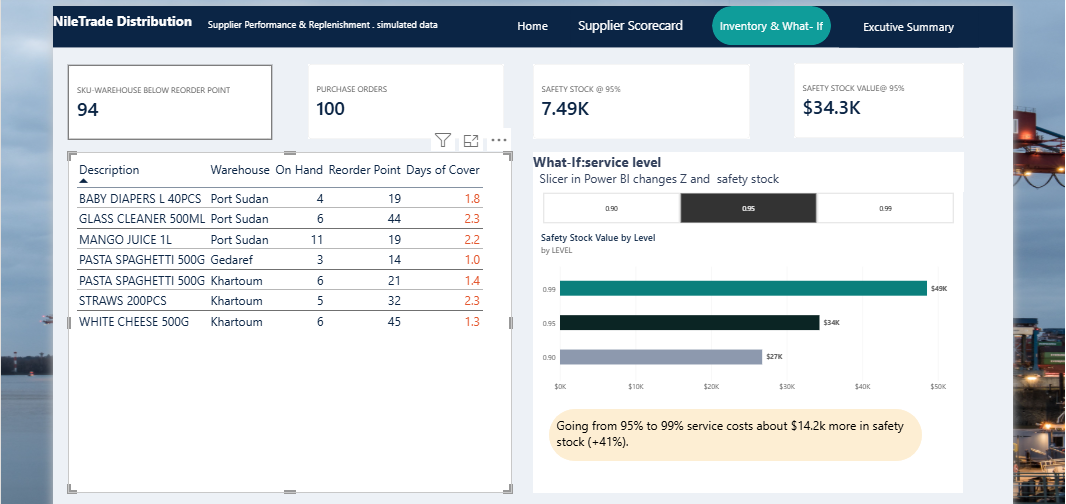

Layout of this report page (visuals, bound fields, positions):
{"tool":"powerbi","page":{"name":"Inventory & What-If","canvas":[1920,1080],"ordinal":2},"visuals":[{"type":"shape","box":[0,0,1919.8,82.9],"z":0},{"type":"textbox","box":[0,10.6,467.9,53.4],"z":1000},{"type":"textbox","box":[310.4,23.4,591,53.1],"z":2000},{"type":"shape","box":[1035.4,12.8,238.1,51],"z":3000},{"type":"shape","box":[884.4,0,150.9,76.5],"z":4000},{"type":"shape","box":[1318.1,0,238.1,78.7],"z":5000},{"type":"shape","box":[1571.1,0,278.5,82.9],"z":6000},{"type":"cardVisual","fields":{"Data":["PurchaseOrders_Raw.Below ROP Count"]},"box":[30,118,408.3,149.9],"z":7000},{"type":"cardVisual","fields":{"Data":["PurchaseOrders_Raw.Open POs"]},"box":[510,116,392,150],"z":8000},{"type":"cardVisual","fields":{"Data":["PurchaseOrders_Raw.Total Safety Stock Value"]},"box":[1482,114,340,150],"z":9000},{"type":"cardVisual","fields":{"Data":["PurchaseOrders_Raw.Total Safety Stock Units"]},"box":[960,116,434.4,149.9],"z":10000},{"type":"tableEx","fields":{"Values":["SKUs.Description","Warehouses.Warehouse","PurchaseOrders_Raw.On Hand","PurchaseOrders_Raw.Reorder Point","PurchaseOrders_Raw.Days of Cover"]},"box":[30,292,888,682],"z":11000},{"type":"slicer","fields":{"Values":["ServiceLevels.LEVEL"]},"box":[960,372,860,64],"z":12000},{"type":"clusteredBarChart","fields":{"Category":["ServiceLevels.LEVEL"],"Y":["PurchaseOrders_Raw.Safety Stock Value by Level"]},"box":[960,436,860,356],"z":13000},{"type":"textbox","box":[960,292,862,80],"z":14000},{"type":"textbox","box":[960,792,860,182],"z":15000},{"type":"shape","box":[992,806,746,104],"z":16000}]}

Visuals, with their boxes on the page's 1920x1080 design canvas (x1, y1, x2, y2). These are canvas units, not pixel positions in the 1066x504 screenshot, which may show the page scaled, cropped or inside an application window:
shape: (left=0, top=0, right=1920, bottom=83)
textbox: (left=0, top=11, right=468, bottom=64)
textbox: (left=310, top=23, right=901, bottom=76)
shape: (left=1035, top=13, right=1274, bottom=64)
shape: (left=884, top=0, right=1035, bottom=76)
shape: (left=1318, top=0, right=1556, bottom=79)
shape: (left=1571, top=0, right=1850, bottom=83)
cardVisual - PurchaseOrders_Raw.Below ROP Count: (left=30, top=118, right=438, bottom=268)
cardVisual - PurchaseOrders_Raw.Open POs: (left=510, top=116, right=902, bottom=266)
cardVisual - PurchaseOrders_Raw.Total Safety Stock Value: (left=1482, top=114, right=1822, bottom=264)
cardVisual - PurchaseOrders_Raw.Total Safety Stock Units: (left=960, top=116, right=1394, bottom=266)
tableEx - SKUs.Description x Warehouses.Warehouse: (left=30, top=292, right=918, bottom=974)
slicer - ServiceLevels.LEVEL: (left=960, top=372, right=1820, bottom=436)
clusteredBarChart - ServiceLevels.LEVEL x PurchaseOrders_Raw.Safety Stock Value by Level: (left=960, top=436, right=1820, bottom=792)
textbox: (left=960, top=292, right=1822, bottom=372)
textbox: (left=960, top=792, right=1820, bottom=974)
shape: (left=992, top=806, right=1738, bottom=910)
